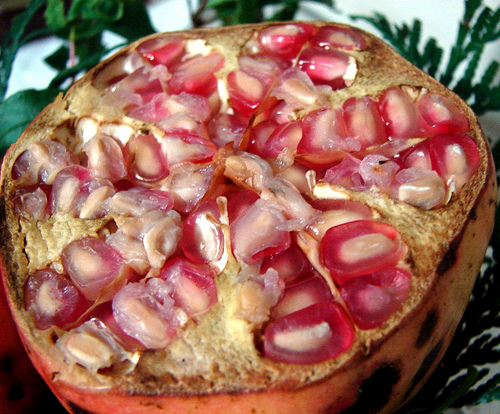pomogranate: (1, 20, 496, 412)
